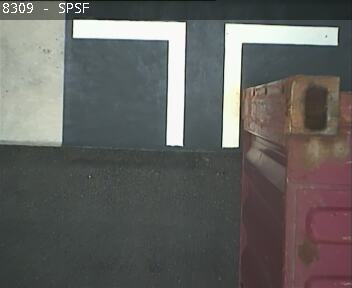groundmarker_1: (73, 17, 338, 144)
